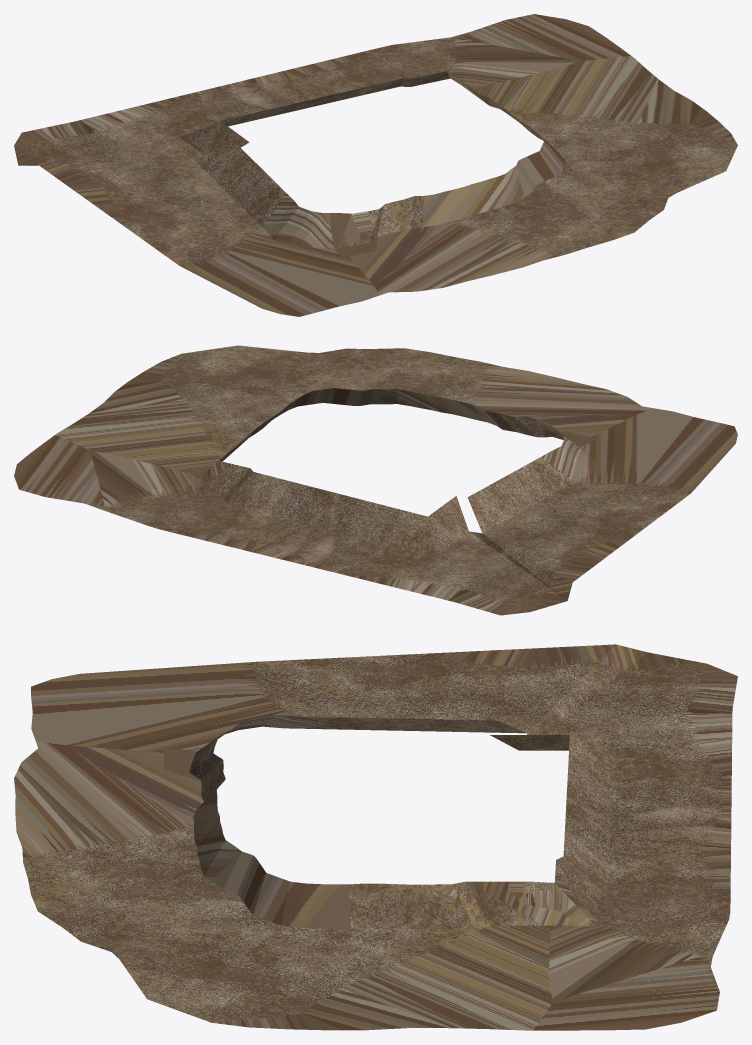
File: suelo_exterior_3.obj
3 renders of one model, top to bottom at view 1: azimuth 30°, elevation 25°; view 2: azimuth 150°, elevation 25°; view 3: azimuth 270°, elevation 25°, orthographic. The views are drawn at different scales.
Visible parts, largest first — view 1: suelo_exterior_3; view 2: suelo_exterior_3; view 3: suelo_exterior_3.
Boxes of the visible parts, x1,y1,x2,y2 form: suelo_exterior_3: [14, 14, 737, 316]; suelo_exterior_3: [14, 345, 737, 615]; suelo_exterior_3: [14, 644, 737, 1030].
Bounding box in the file's own units: 3826 × 178 × 3081.
